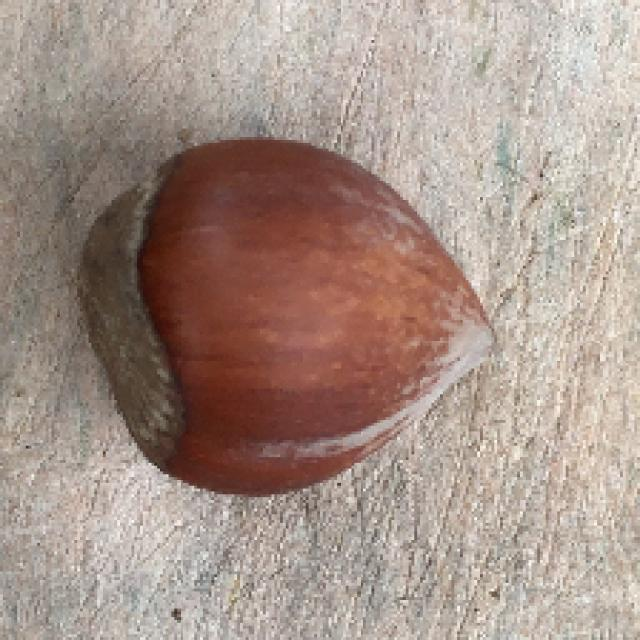QualityHazelnut: (68, 132, 502, 498)
